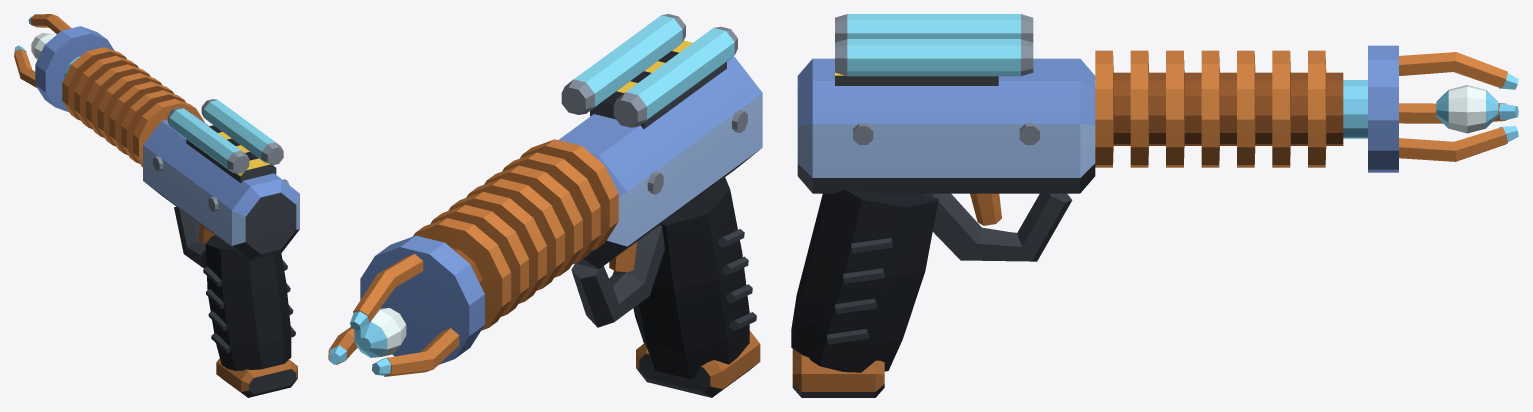
Rendered from ArcBlaster.fbx.
3 views of the same model, side by side, from view 1: azimuth 30°, elevation 25°; view 2: azimuth 150°, elevation 25°; view 3: azimuth 270°, elevation 25° (orthographic). The views are drawn at different scales.
Parts seen in each view (by area): view 1: Body, Grip, Coils, Capacitors, EmitterPlate, GripHeel, Guard, HazardRail, Prongs, GripRibs, Spark, Bolts; view 2: Coils, Body, Grip, Capacitors, EmitterPlate, Guard, Prongs, GripHeel, Spark, HazardRail, GripRibs, ProngTips (+1 smaller); view 3: Body, Coils, Grip, Capacitors, Guard, Prongs, EmitterPlate, GripHeel, Spark, GripRibs, HazardRail, Core (+2 smaller).
Boxes of the visible parts, left/top/right/bottom form: Body: left=143, top=113, right=299, bottom=260; Grip: left=205, top=235, right=291, bottom=370; Coils: left=62, top=47, right=204, bottom=167; Capacitors: left=167, top=99, right=283, bottom=173; EmitterPlate: left=35, top=26, right=114, bottom=112; GripHeel: left=216, top=358, right=297, bottom=397; Guard: left=174, top=206, right=215, bottom=268; HazardRail: left=186, top=125, right=276, bottom=182; Prongs: left=14, top=14, right=71, bottom=87; GripRibs: left=203, top=259, right=295, bottom=352; Spark: left=31, top=33, right=55, bottom=59; Bolts: left=153, top=156, right=289, bottom=211; Coils: left=413, top=139, right=618, bottom=330; Body: left=558, top=56, right=762, bottom=268; Grip: left=633, top=177, right=749, bottom=378; Capacitors: left=561, top=14, right=737, bottom=127; EmitterPlate: left=360, top=235, right=484, bottom=364; Guard: left=571, top=222, right=664, bottom=327; Prongs: left=328, top=254, right=459, bottom=376; GripHeel: left=636, top=330, right=760, bottom=397; Spark: left=354, top=308, right=406, bottom=357; HazardRail: left=590, top=40, right=726, bottom=129; GripRibs: left=717, top=229, right=756, bottom=330; ProngTips: left=329, top=311, right=393, bottom=375; Body: left=797, top=58, right=1095, bottom=193; Coils: left=1095, top=50, right=1343, bottom=167; Grip: left=791, top=189, right=938, bottom=372; Capacitors: left=835, top=14, right=1033, bottom=76; Guard: left=924, top=193, right=1072, bottom=261; Prongs: left=1399, top=52, right=1507, bottom=161; EmitterPlate: left=1368, top=45, right=1398, bottom=172; GripHeel: left=792, top=349, right=884, bottom=397; Spark: left=1436, top=85, right=1498, bottom=133; GripRibs: left=827, top=238, right=892, bottom=344; HazardRail: left=835, top=72, right=998, bottom=85; Core: left=1095, top=80, right=1367, bottom=138.
Size of the model in its own units: 0.105 by 0.3139 by 0.5869.
Materials: 1 (1 with a texture image).
